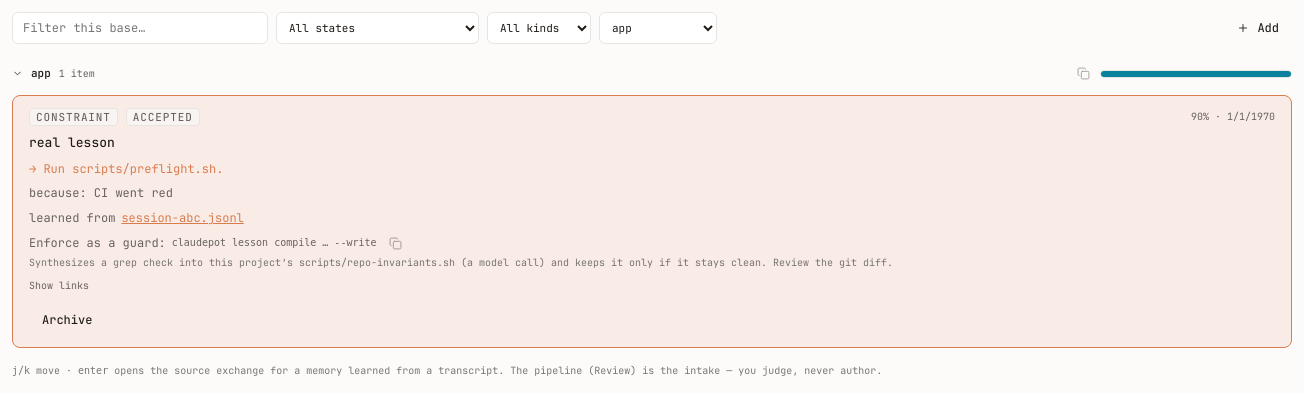
KnowView › a search inside a deep-linked project offers 'Clear search', not 'Clear project filter'
Expected: the text "real lesson" is shown, [29,134,115,151]
Type "zzznomatch" into the field named "Search knowledge" at (140,28), box [23,20,257,36]
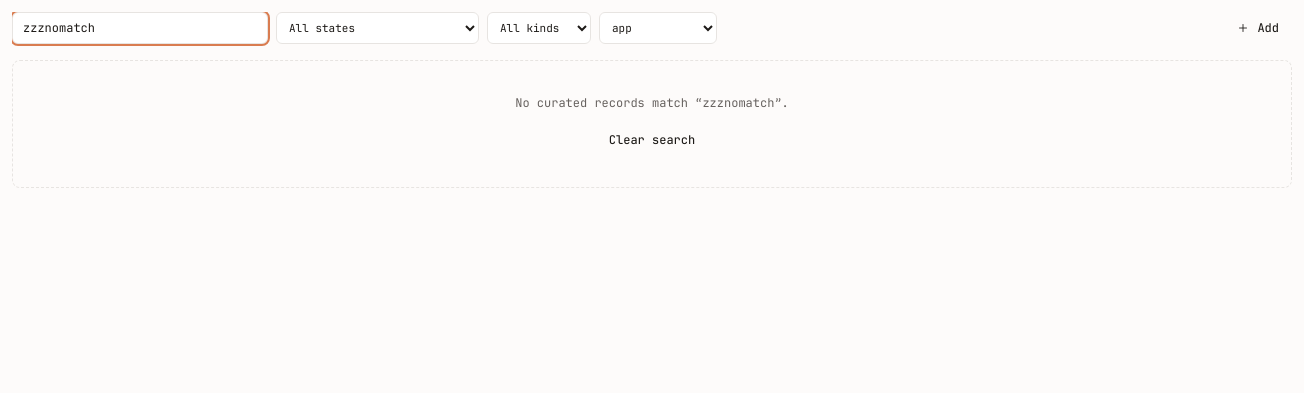
Expected: the button "Clear search" is shown, [596,125,708,155]
